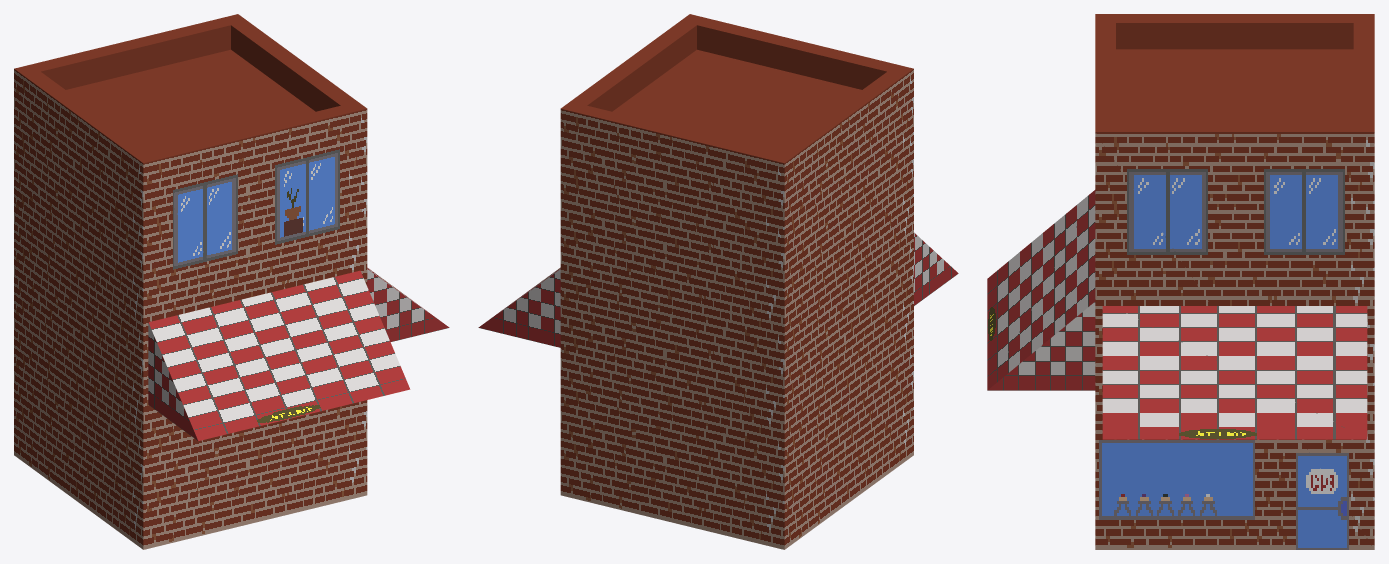
The model's file is Building1.glb.
3 views of the same model, side by side, from view 1: azimuth 30°, elevation 25°; view 2: azimuth 150°, elevation 25°; view 3: azimuth 270°, elevation 25° (orthographic). The views are drawn at different scales.
Visible parts, largest first — view 1: Cube, Cube.002, Cube.001; view 2: Cube, Cube.001, Cube.002; view 3: Cube, Cube.001, Cube.002.
Boxes of the visible parts, x1,y1,x2,y2 form: Cube: [14, 14, 367, 549]; Cube.002: [148, 270, 410, 440]; Cube.001: [367, 267, 449, 341]; Cube: [560, 14, 913, 549]; Cube.001: [478, 267, 560, 347]; Cube.002: [914, 232, 958, 305]; Cube: [1095, 14, 1374, 549]; Cube.001: [1102, 306, 1367, 439]; Cube.002: [987, 190, 1095, 390].
Bounding box in the file's own units: 10.72 × 12.78 × 10.74.
Materials: 1 (1 with a texture image).
